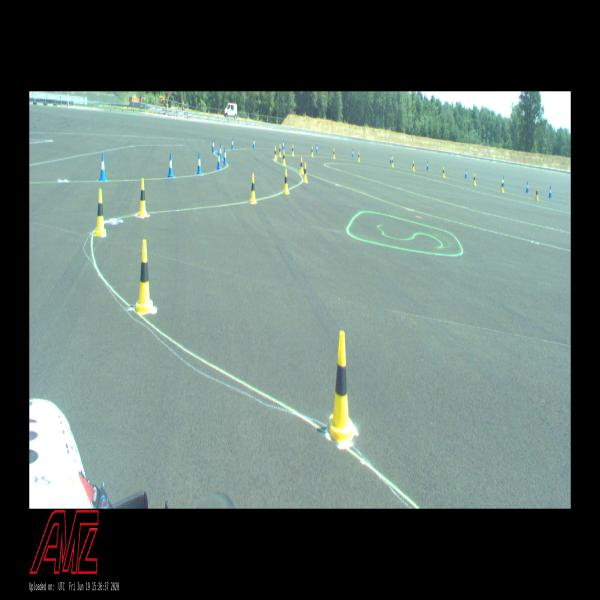blue_cone: (99, 154, 106, 180), (167, 153, 174, 178), (196, 153, 202, 174), (217, 150, 221, 169), (223, 148, 227, 164), (548, 186, 552, 198), (219, 144, 222, 160), (252, 138, 256, 148), (526, 181, 529, 193), (231, 138, 234, 150), (502, 176, 505, 187), (282, 140, 285, 151), (426, 160, 429, 170), (212, 138, 214, 152), (465, 168, 467, 178), (390, 154, 392, 164), (316, 144, 318, 154), (352, 149, 354, 158)
yellow_cone: (326, 331, 355, 444), (135, 239, 154, 313), (94, 189, 106, 236), (138, 178, 148, 218), (250, 173, 257, 204), (282, 169, 288, 194), (302, 162, 308, 184), (299, 157, 303, 174), (534, 186, 538, 201), (273, 146, 277, 161), (282, 151, 286, 165), (278, 144, 282, 157), (500, 180, 504, 192), (473, 173, 476, 185), (311, 146, 314, 157), (391, 157, 394, 168), (412, 160, 415, 171), (442, 167, 445, 178), (292, 144, 294, 156), (333, 148, 335, 159), (358, 151, 360, 162)
